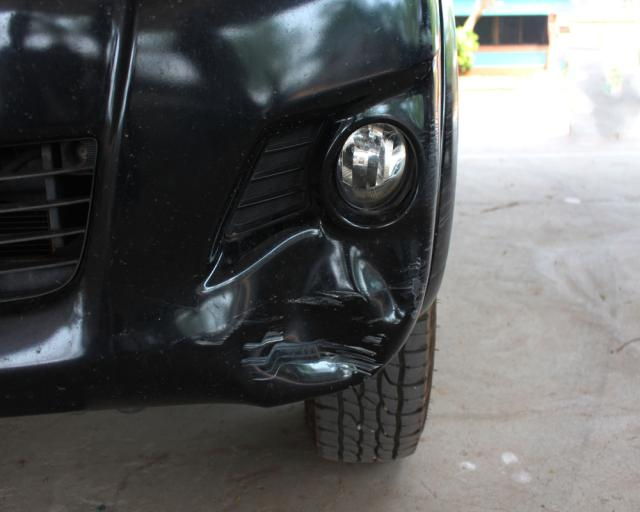dent: (248, 221, 410, 387)
scratch: (423, 111, 458, 233), (402, 246, 430, 318), (238, 337, 275, 383), (194, 318, 244, 346)
